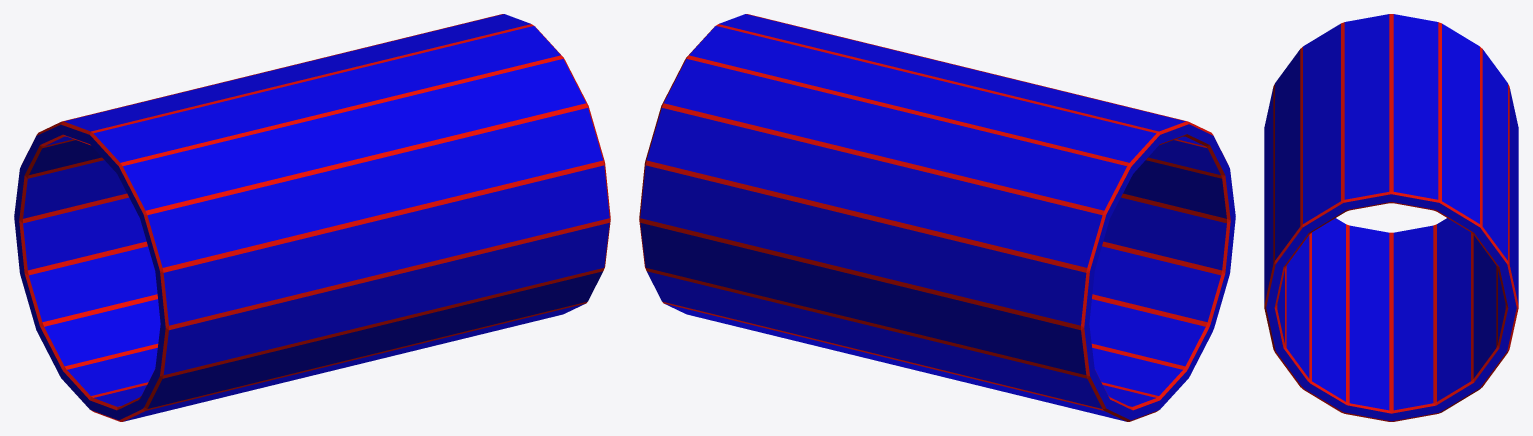
Rendered from L8_Pipe.fbx.
The picture shows the model from 3 angles, left to right: view 1: azimuth 30°, elevation 25°; view 2: azimuth 150°, elevation 25°; view 3: azimuth 270°, elevation 25°; orthographic projection. The views are drawn at different scales.
Visible parts, largest first — view 1: L8_Pipe; view 2: L8_Pipe; view 3: L8_Pipe.
Part boxes in pixels (box(x1,y1,x2,y2)): L8_Pipe: box(14, 14, 610, 421); L8_Pipe: box(639, 14, 1235, 421); L8_Pipe: box(1264, 14, 1518, 421).
Size of the model in its own units: 500 by 299 by 299.
